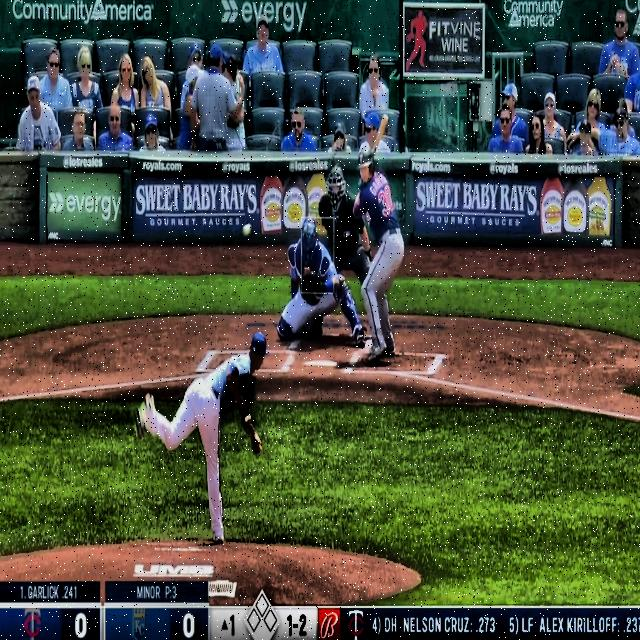baseball: (242, 222, 252, 238)
